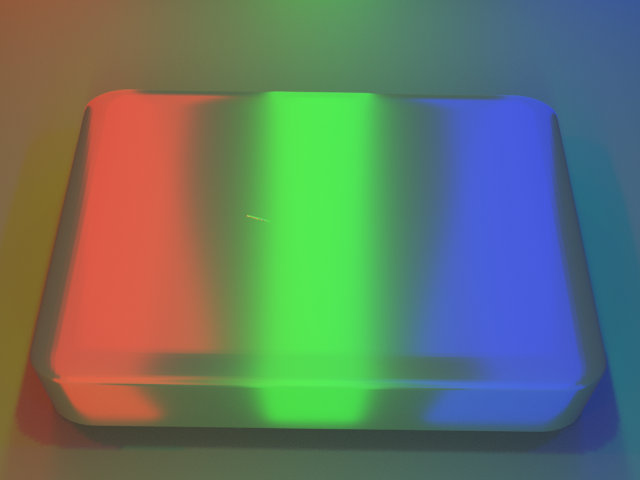scratch: (216, 196, 281, 235)
